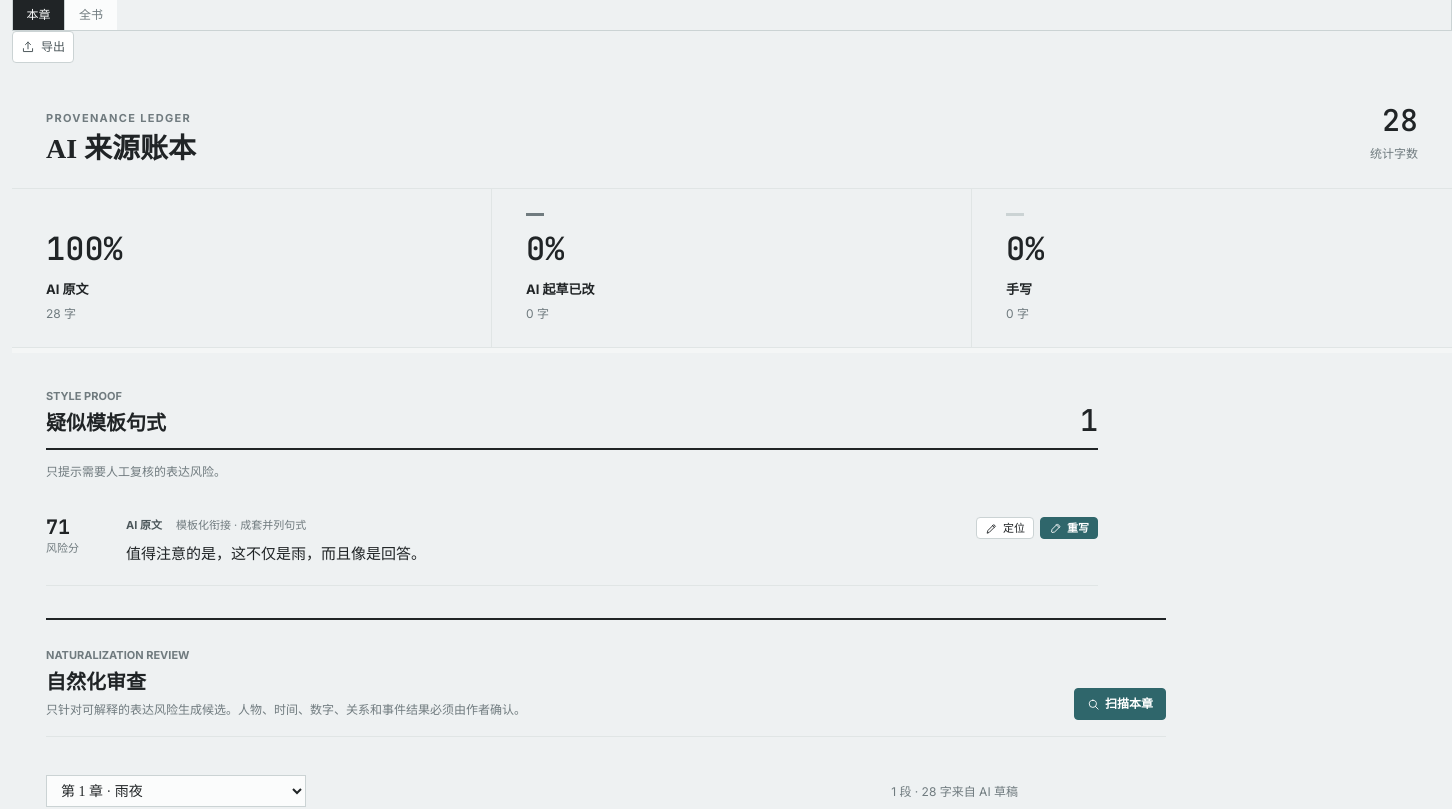
Test: AiRatioView sentence proofing › reloads the active chapter after accepting a naturalization candidate
This screenshot has width=1452, height=809.
Click the button "扫描本章" at {"x": 1120, "y": 704}, box [1074, 688, 1166, 720]
(page scrolled)
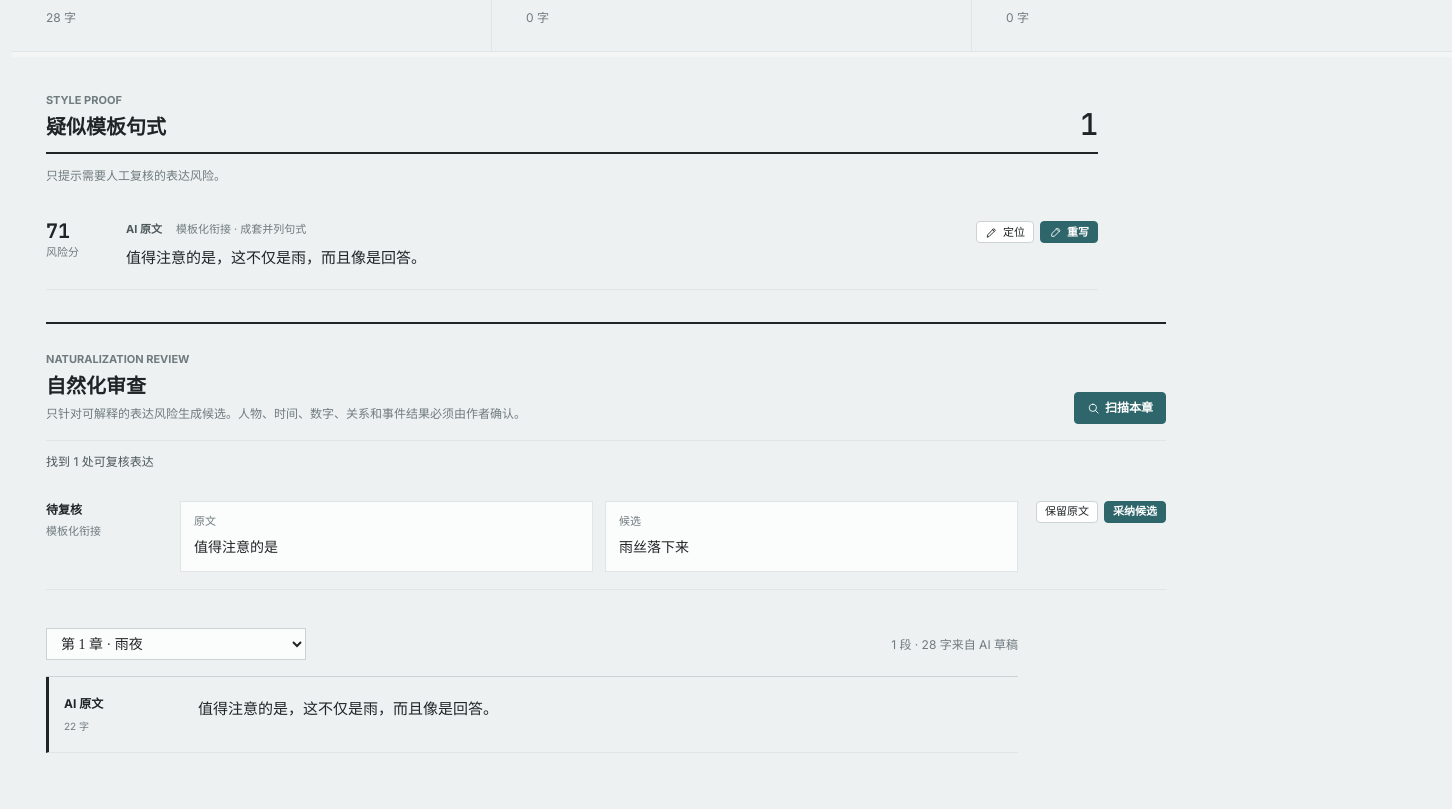
Click the button "采纳候选" at {"x": 1135, "y": 512}, box [1104, 501, 1166, 523]
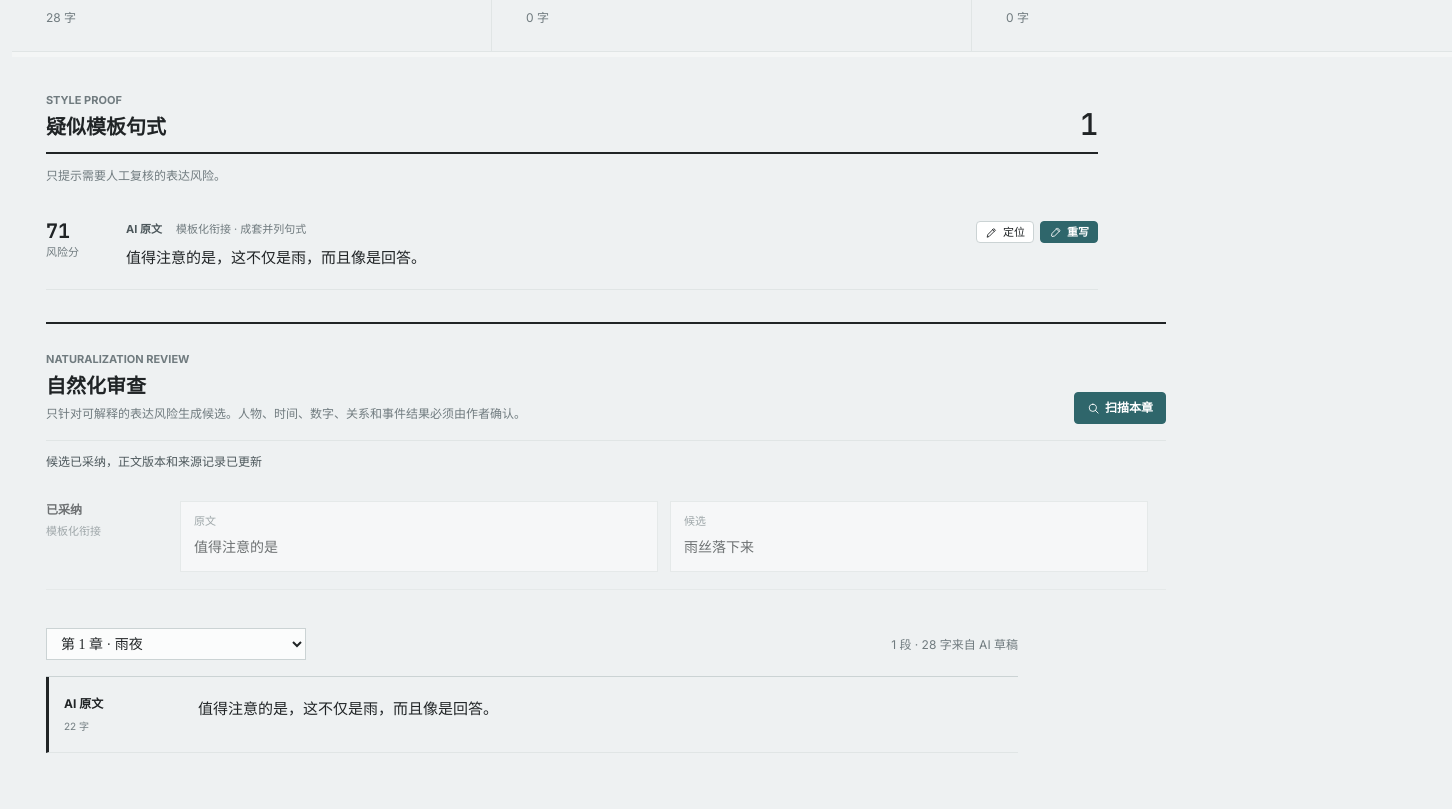
Result: the text "候选已采纳，正文版本和来源记录已更新" is shown at [46, 454, 262, 469]
